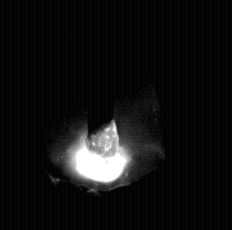arame: (88, 0, 115, 141)
poca: (46, 0, 164, 230)
